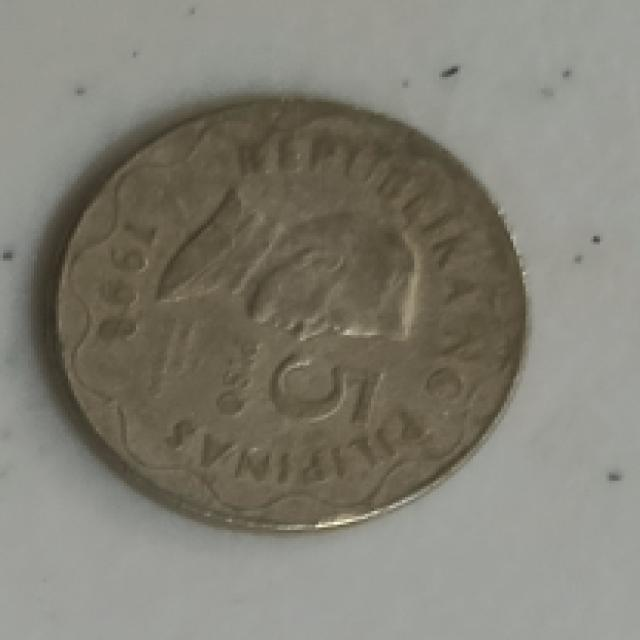5_peso: (53, 99, 523, 527)
